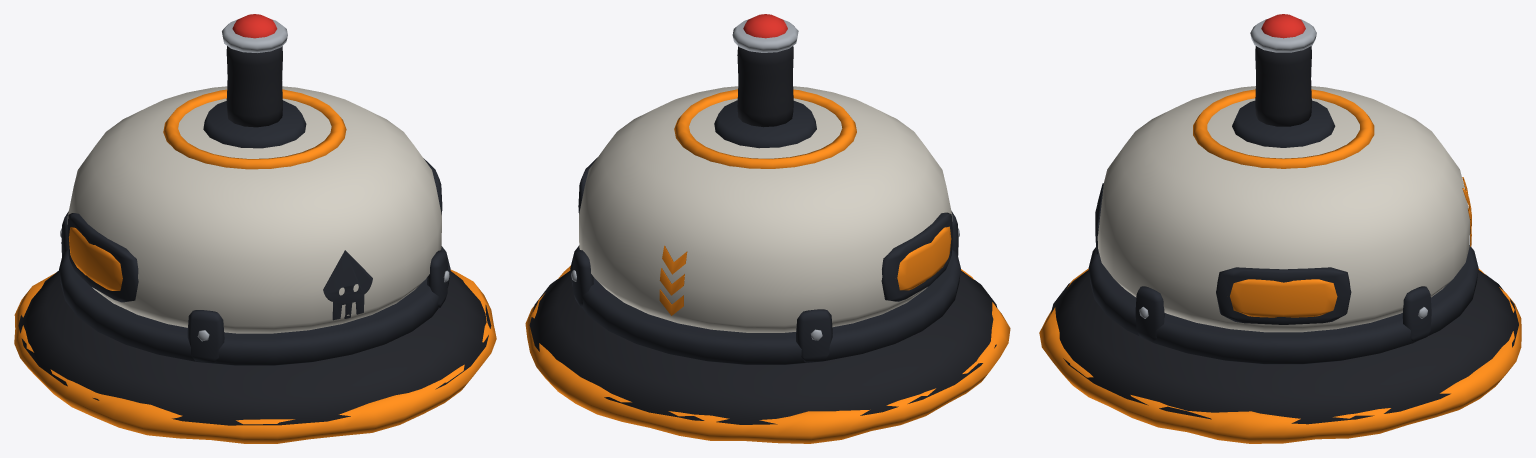
Rendered from sub_sticky.glb.
3 views of the same model, side by side, from view 1: azimuth 30°, elevation 25°; view 2: azimuth 150°, elevation 25°; view 3: azimuth 270°, elevation 25° (orthographic).
Visible parts, largest first — view 1: body, ink; view 2: body, ink; view 3: body, ink.
Part boxes in pixels (x1,y1,x2,y2): body: (18,14,491,425); ink: (14,89,496,443); body: (529,14,997,424); ink: (525,89,1010,443); body: (1051,14,1518,424); ink: (1039,89,1521,443).
Bounding box in the file's own units: 0.2146 × 0.161 × 0.2141.
